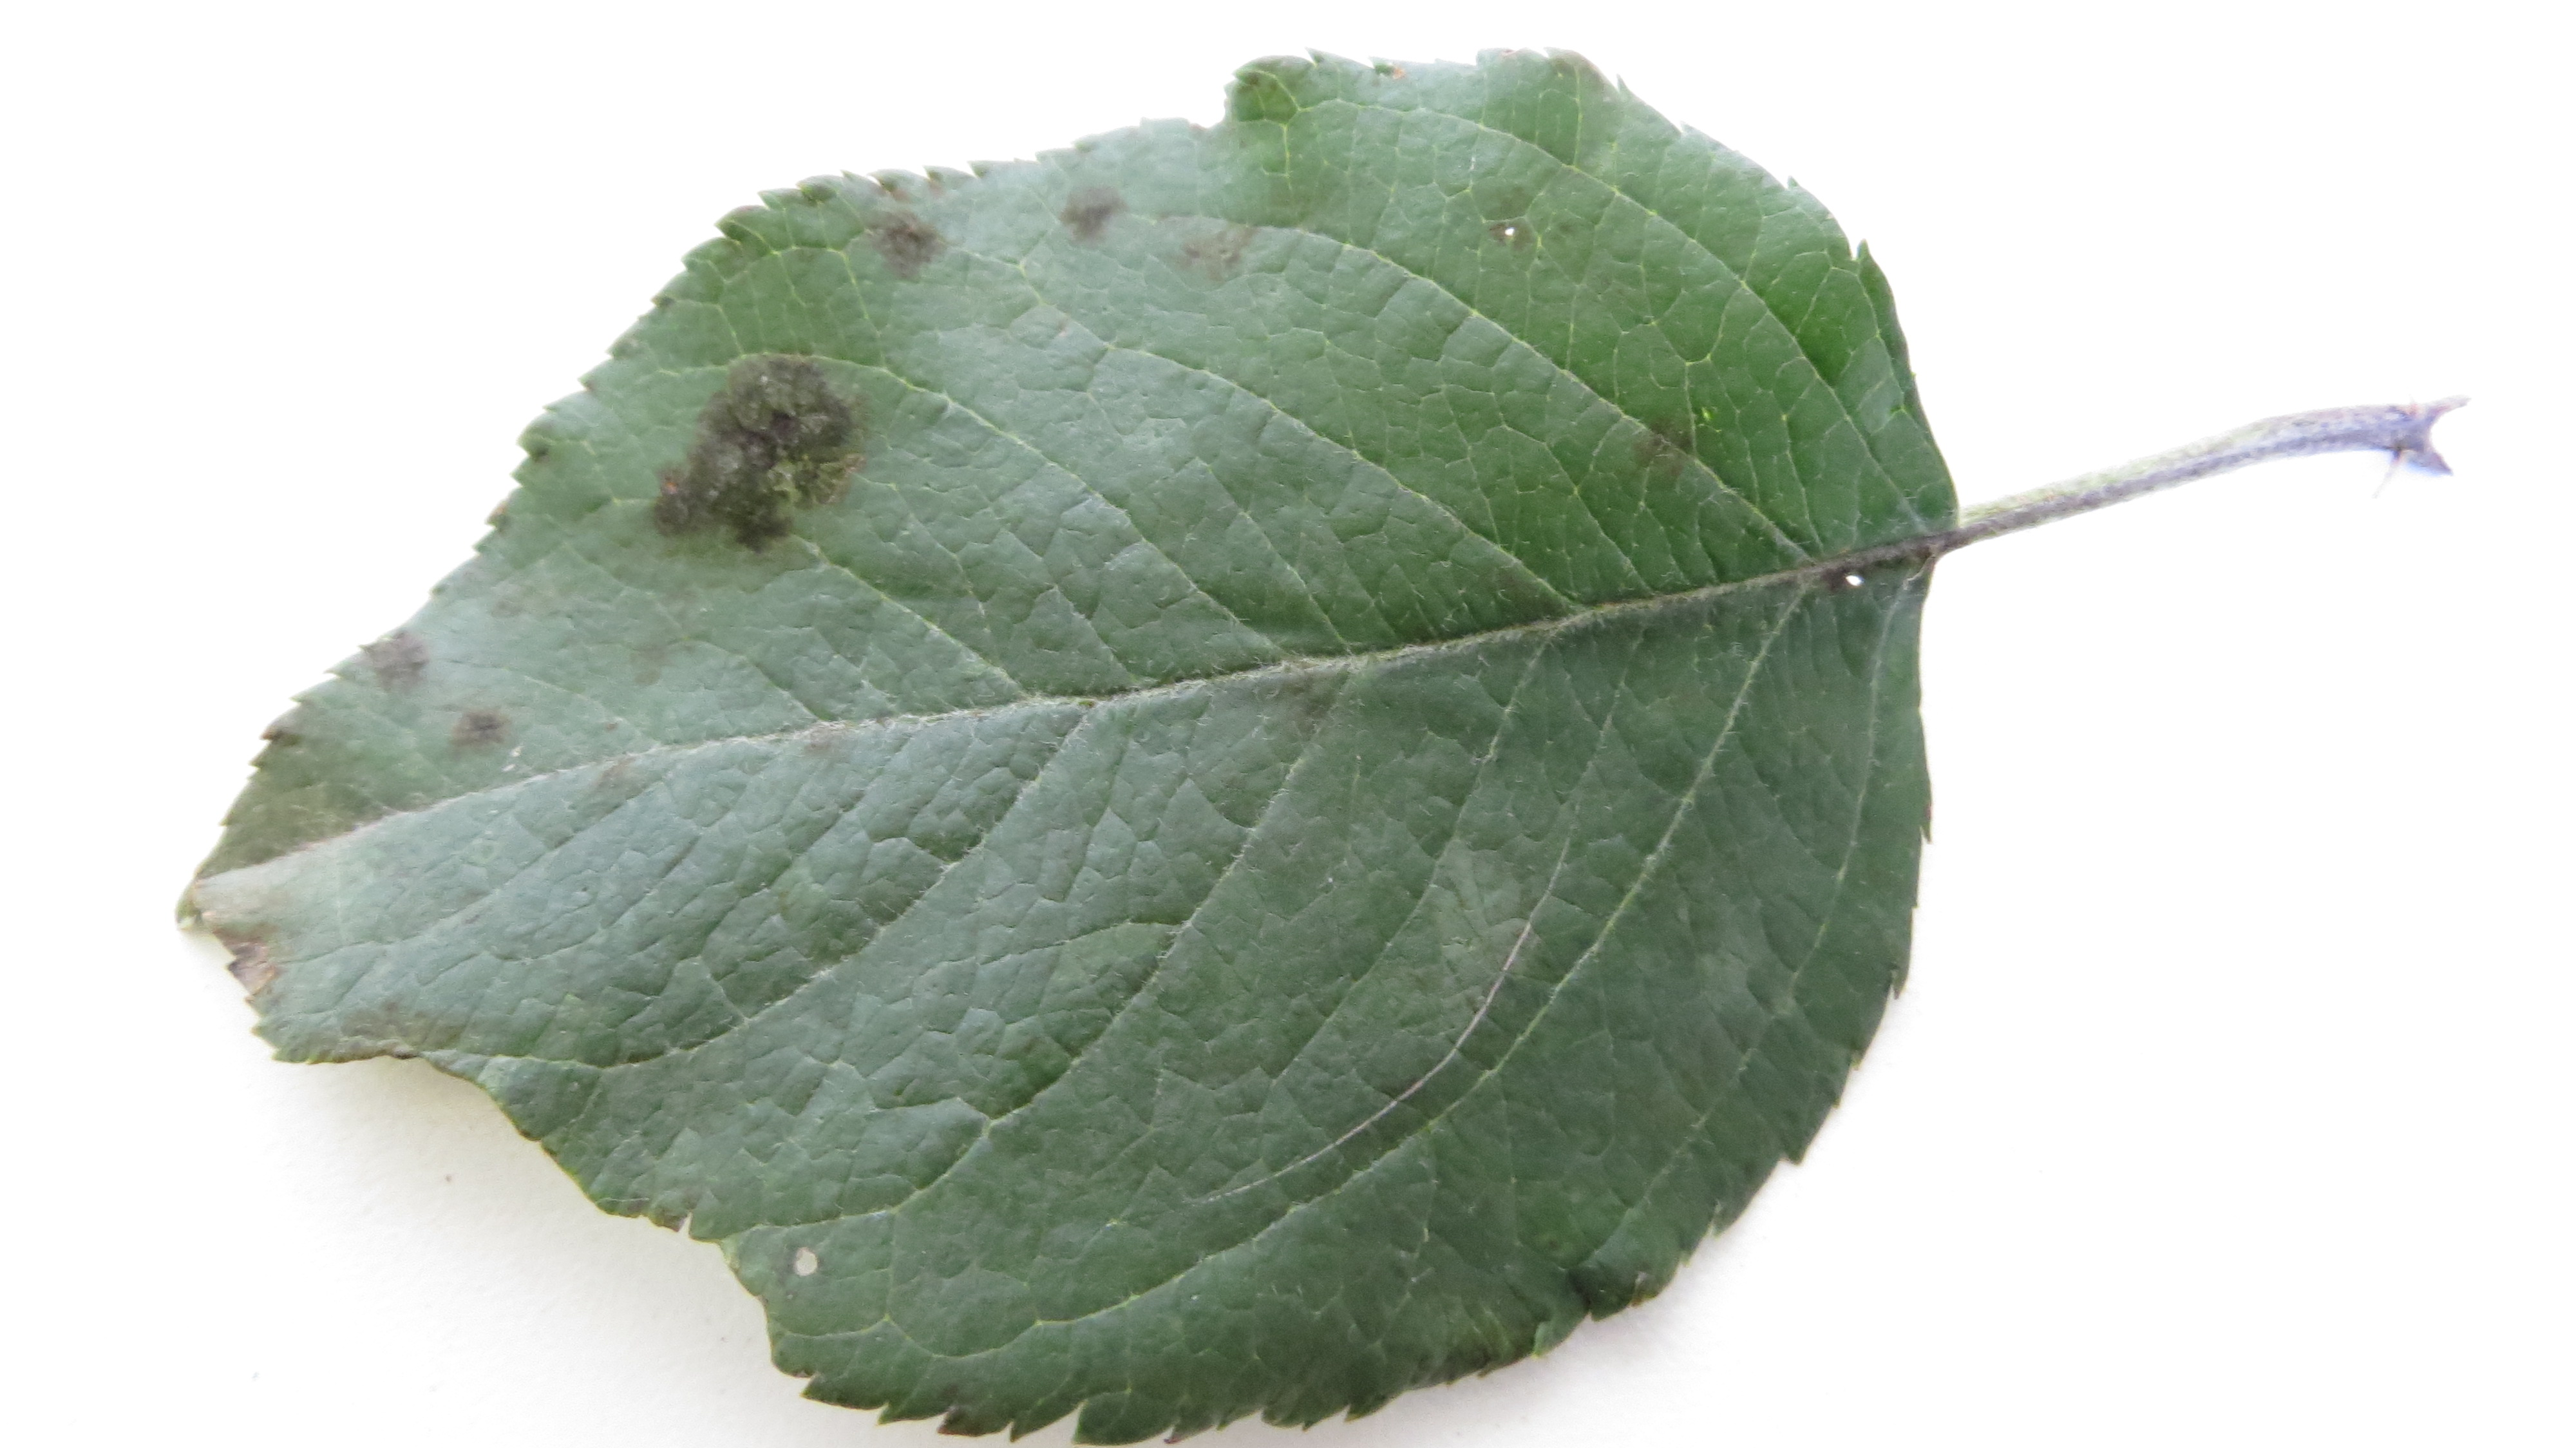sarna: (642, 342, 874, 558), (856, 195, 955, 296), (1159, 200, 1265, 290), (1037, 159, 1136, 250), (364, 620, 441, 697), (1628, 400, 1707, 473), (446, 694, 520, 763)
